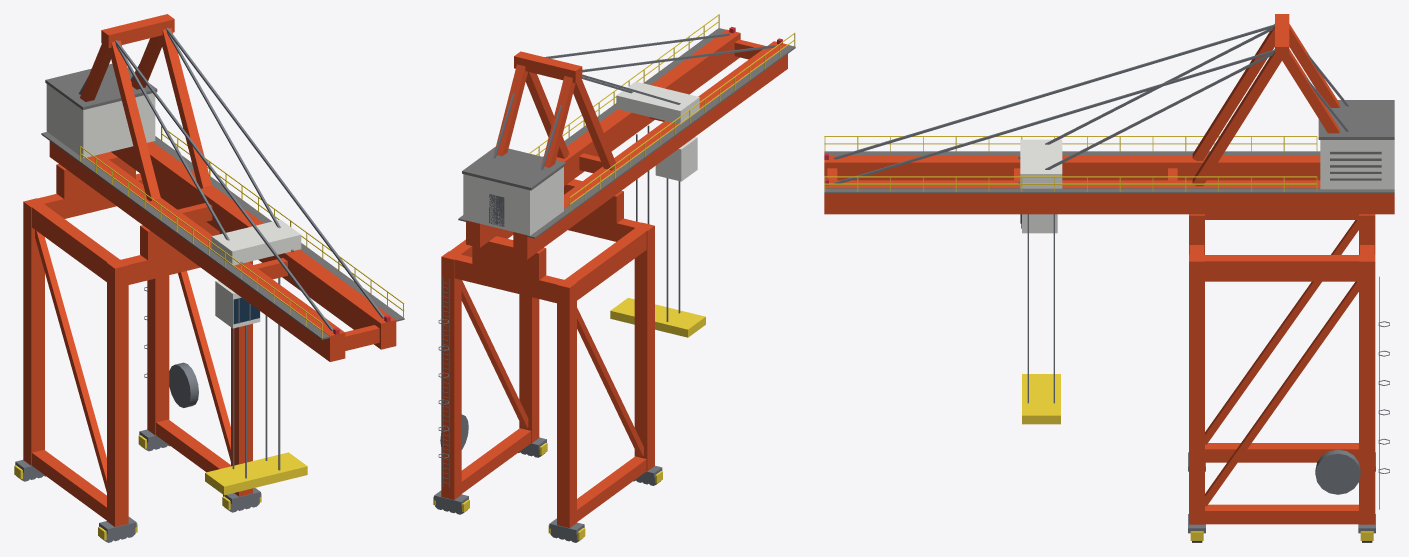
File: port_crane_close.fbx
The picture shows the model from 3 angles, left to right: view 1: azimuth 30°, elevation 25°; view 2: azimuth 150°, elevation 25°; view 3: azimuth 270°, elevation 25°; orthographic projection. The views are drawn at different scales.
Visible parts, largest first — view 1: a403_0_port_crane_close; view 2: a403_0_port_crane_close; view 3: a403_0_port_crane_close.
Part boxes in pixels (x1=…): a403_0_port_crane_close: x1=14, y1=14, x2=404, y2=542; a403_0_port_crane_close: x1=433, y1=14, x2=795, y2=542; a403_0_port_crane_close: x1=824, y1=14, x2=1394, y2=542.
Size of the model in its own units: 11.4 by 32.38 by 35.2.
